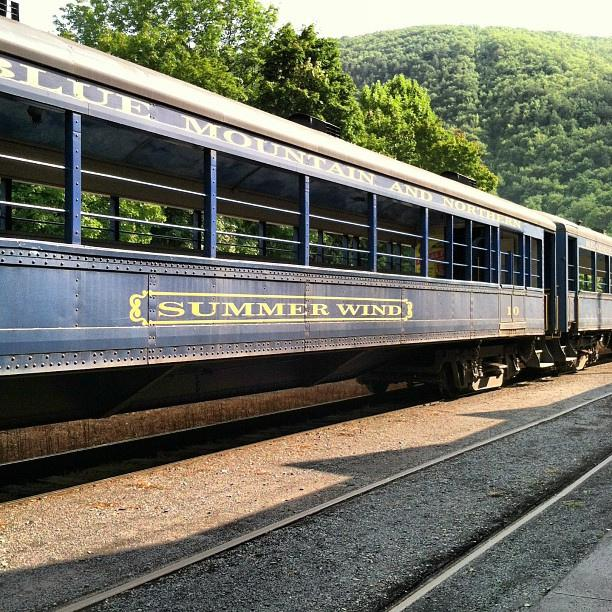Train: (2, 16, 612, 430)
